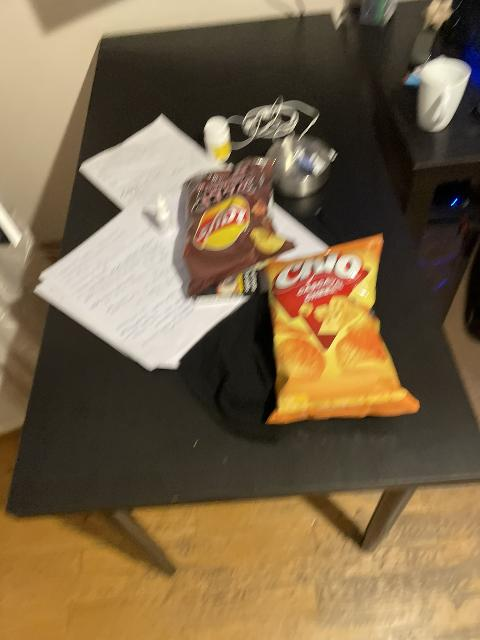Chio Cascaval 125g: (265, 237, 421, 423)
Lays Beef Grilled Ribs 125g: (179, 159, 296, 297)
